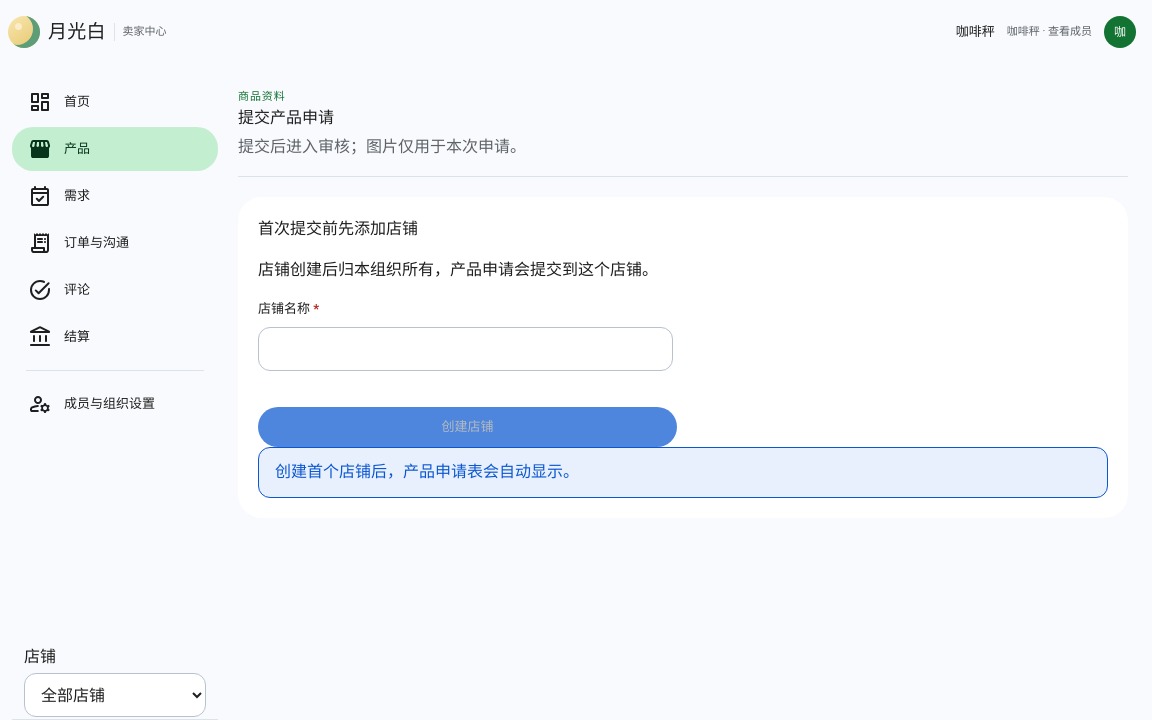
it: Seller first product application store setup › lets a read-only Seller employee create a store without gaining product submission
Check: the heading "首次提交前先添加店铺" is shown, box left=258, top=219, right=418, bottom=238
Type "只读员工创建店铺" into the field labelled "店铺名称" at x=466, y=349, box left=258, top=327, right=673, bottom=371
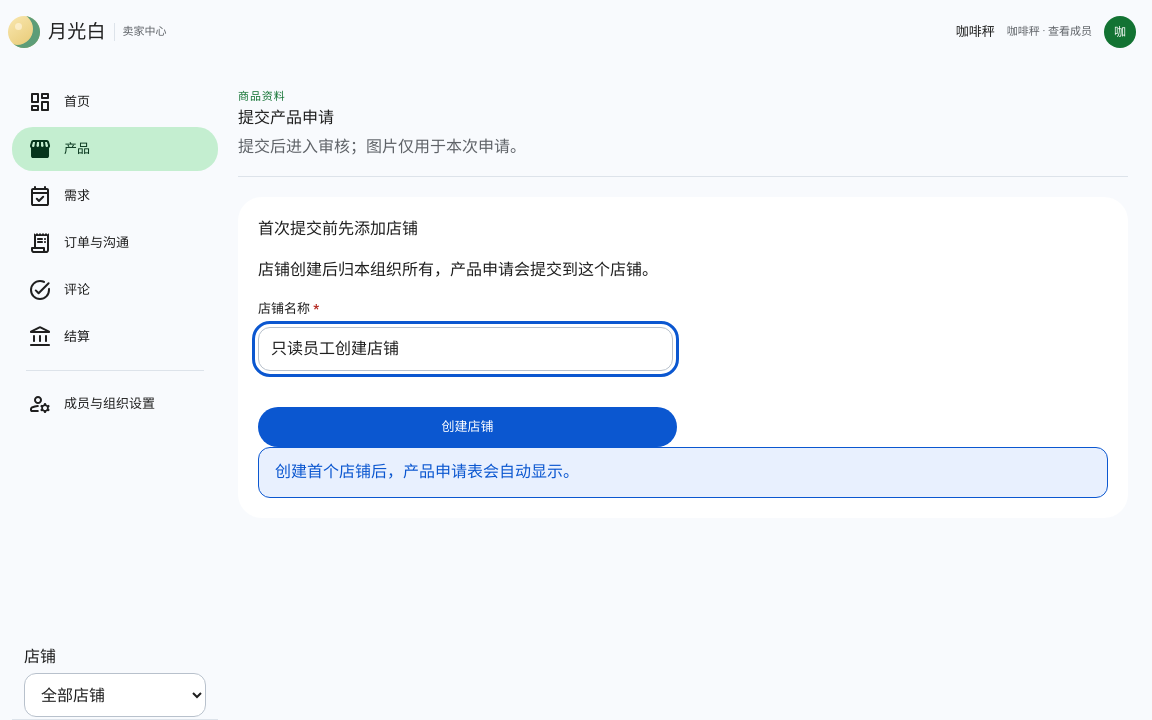
Click the button "创建店铺" at x=468, y=427, box left=258, top=407, right=677, bottom=447
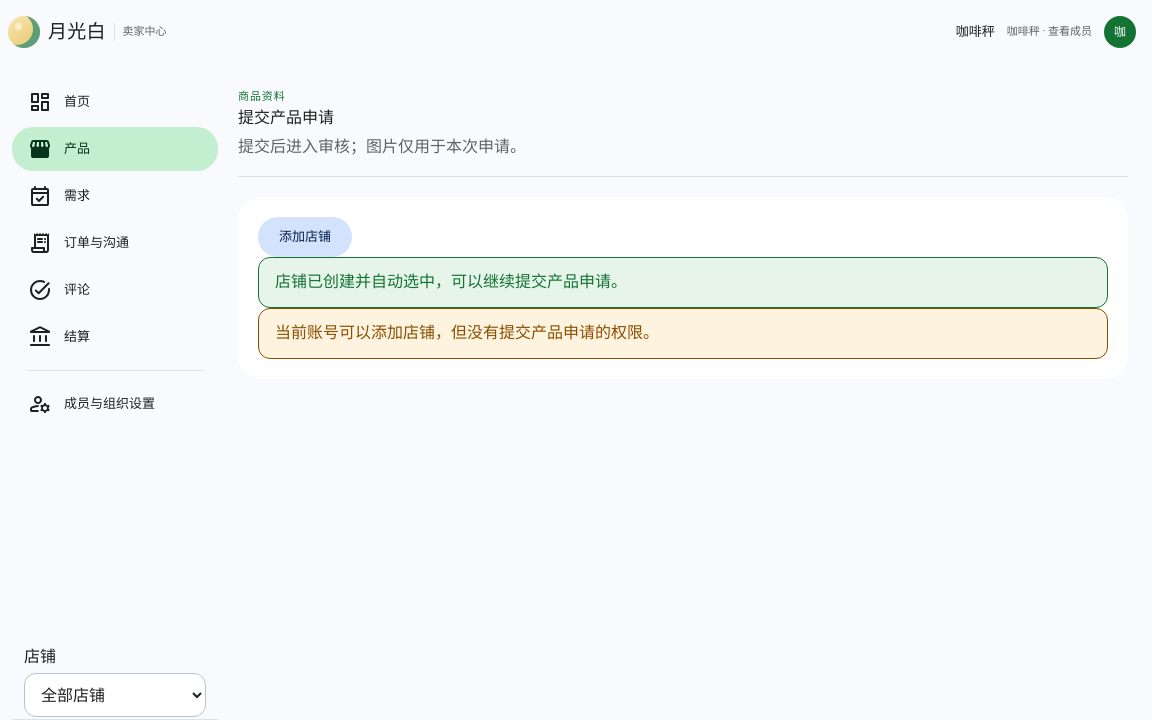
Check: the text "当前账号可以添加店铺，但没有提交产品申请的权限。" is shown, box left=275, top=323, right=659, bottom=342
